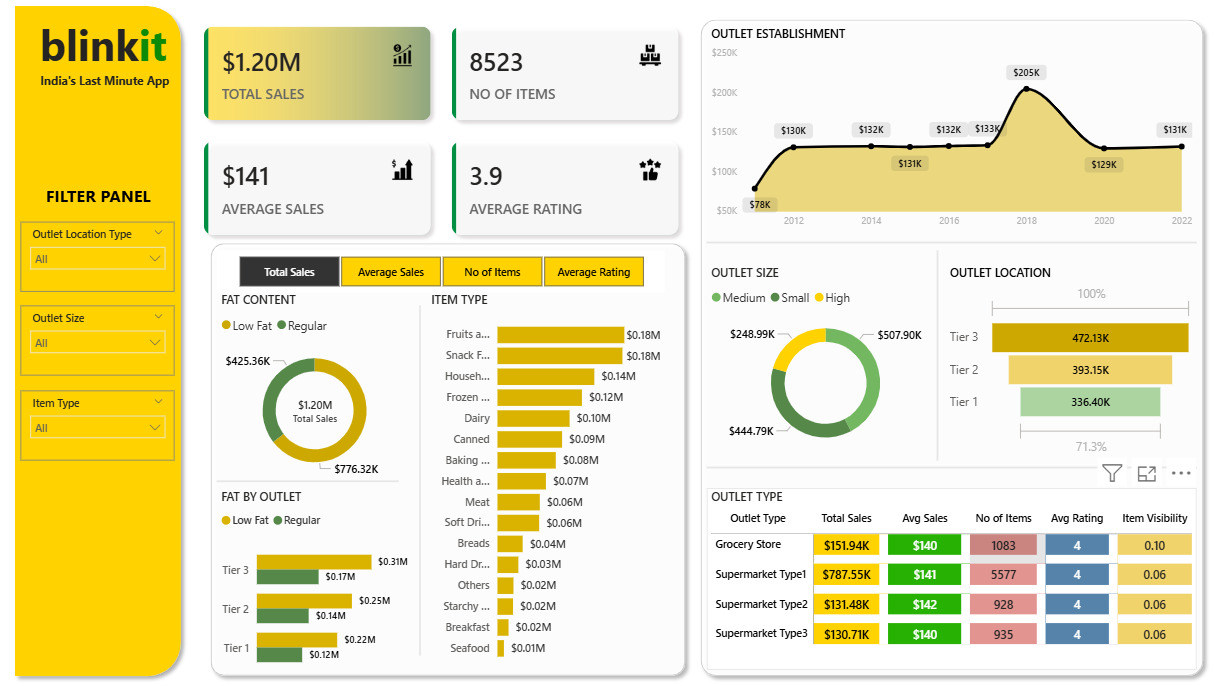

The dashboard page shown, as its layout file describes it:
{"tool":"powerbi","page":{"name":"Page 1","canvas":[1400,800],"ordinal":0},"visuals":[{"type":"shape","box":[16,0,208,784],"z":0},{"type":"textbox","box":[48,16,176,80],"z":1000},{"type":"textbox","box":[16,80,224,32],"z":2000},{"type":"cardVisual","fields":{"Data":["BlinkIT Grocery Data.Total Sales","BlinkIT Grocery Data.No of Items","BlinkIT Grocery Data.Average Sales","BlinkIT Grocery Data.Average Rating"]},"box":[224,16,576,272],"z":3000},{"type":"shape","box":[240,272,560,512],"z":4000},{"type":"donutChart","title":"FAT CONTENT","fields":{"Y":["BlinkIT Grocery Data.Total Sales"],"Category":["BlinkIT Grocery Data.Item Fat Content"]},"box":[256,336,224,224],"z":5000},{"type":"slicer","fields":{"Values":["metrices.metrices"]},"box":[256,288,512,48],"z":6000},{"type":"cardVisual","fields":{"Data":["BlinkIT Grocery Data.Total Sales"]},"box":[320,432,96,80],"z":7000},{"type":"clusteredBarChart","title":"FAT BY OUTLET","fields":{"Y":["BlinkIT Grocery Data.Total Sales"],"Category":["BlinkIT Grocery Data.Outlet Location Type"],"Series":["BlinkIT Grocery Data.Item Fat Content"]},"box":[256,560,224,224],"z":8000},{"type":"shape","box":[256,544,208,16],"z":9000},{"type":"shape","box":[480,352,16,400],"z":10000},{"type":"barChart","title":"ITEM TYPE","fields":{"Y":["BlinkIT Grocery Data.Total Sales"],"Category":["BlinkIT Grocery Data.Item Type"]},"box":[496,336,272,432],"z":11000},{"type":"shape","box":[800,16,592,768],"z":12000},{"type":"lineChart","title":"OUTLET ESTABLISHMENT","fields":{"Category":["BlinkIT Grocery Data.Outlet Establishment Year"],"Y":["BlinkIT Grocery Data.Total Sales"]},"box":[816,32,560,240],"z":13000},{"type":"shape","box":[816,272,560,16],"z":14000},{"type":"donutChart","title":"OUTLET SIZE","fields":{"Y":["BlinkIT Grocery Data.Total Sales"],"Category":["BlinkIT Grocery Data.Outlet Size"]},"box":[816,304,272,224],"z":15000},{"type":"shape","box":[1072,288,16,240],"z":16000},{"type":"funnel","title":"OUTLET LOCATION","fields":{"Y":["Sum(BlinkIT Grocery Data.Sales)"],"Category":["BlinkIT Grocery Data.Outlet Location Type"]},"box":[1088,304,288,224],"z":17000},{"type":"shape","box":[816,528,560,16],"z":18000},{"type":"pivotTable","title":"OUTLET TYPE","fields":{"Rows":["BlinkIT Grocery Data.Outlet Type"],"Values":["BlinkIT Grocery Data.Total Sales","BlinkIT Grocery Data.Avg Sales","BlinkIT Grocery Data.No of Items","BlinkIT Grocery Data.Avg Rating","Avg(BlinkIT Grocery Data.Item Visibility)"]},"box":[816,560,560,208],"z":19000},{"type":"slicer","fields":{"Values":["BlinkIT Grocery Data.Outlet Location Type"]},"box":[32,256,176,80],"z":20000},{"type":"slicer","fields":{"Values":["BlinkIT Grocery Data.Outlet Size"]},"box":[32,352,176,80],"z":21000},{"type":"slicer","fields":{"Values":["BlinkIT Grocery Data.Item Type"]},"box":[32,448,176,80],"z":22000},{"type":"textbox","box":[48,208,144,48],"z":23000}]}

Visuals, with their boxes in screenshot pixels (x1, y1, x2, y2), scaled from the page's 1400x800 canvas onto the 1214x686 screenshot:
shape: <region>14, 0, 194, 672</region>
textbox: <region>42, 14, 194, 82</region>
textbox: <region>14, 69, 208, 96</region>
cardVisual - BlinkIT Grocery Data.Total Sales x BlinkIT Grocery Data.No of Items: <region>194, 14, 694, 247</region>
shape: <region>208, 233, 694, 672</region>
"FAT CONTENT" donutChart: <region>222, 288, 416, 480</region>
slicer - metrices.metrices: <region>222, 247, 666, 288</region>
cardVisual - BlinkIT Grocery Data.Total Sales: <region>277, 370, 361, 439</region>
"FAT BY OUTLET" clusteredBarChart: <region>222, 480, 416, 672</region>
shape: <region>222, 466, 402, 480</region>
shape: <region>416, 302, 430, 645</region>
"ITEM TYPE" barChart: <region>430, 288, 666, 659</region>
shape: <region>694, 14, 1207, 672</region>
"OUTLET ESTABLISHMENT" lineChart: <region>708, 27, 1193, 233</region>
shape: <region>708, 233, 1193, 247</region>
"OUTLET SIZE" donutChart: <region>708, 261, 943, 453</region>
shape: <region>930, 247, 943, 453</region>
"OUTLET LOCATION" funnel: <region>943, 261, 1193, 453</region>
shape: <region>708, 453, 1193, 466</region>
"OUTLET TYPE" pivotTable: <region>708, 480, 1193, 659</region>
slicer - BlinkIT Grocery Data.Outlet Location Type: <region>28, 220, 180, 288</region>
slicer - BlinkIT Grocery Data.Outlet Size: <region>28, 302, 180, 370</region>
slicer - BlinkIT Grocery Data.Item Type: <region>28, 384, 180, 453</region>
textbox: <region>42, 178, 166, 220</region>
